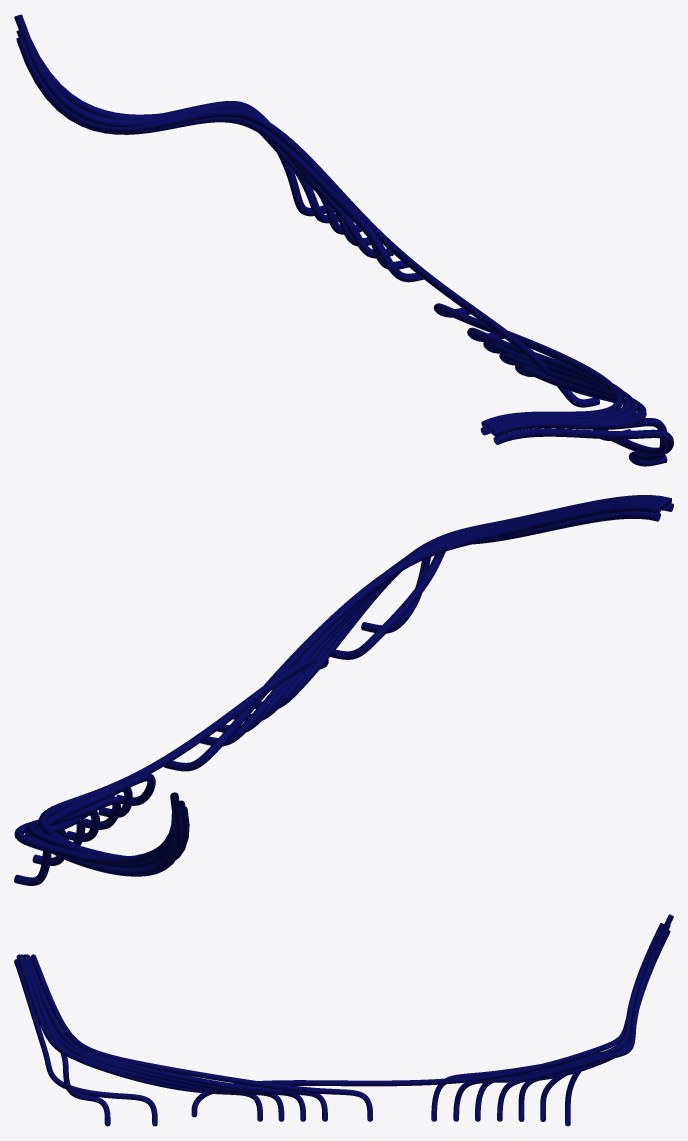
3 views of the same model, one above another, from view 1: azimuth 30°, elevation 25°; view 2: azimuth 150°, elevation 25°; view 3: azimuth 270°, elevation 25° (orthographic). The views are drawn at different scales.
Visible parts, largest first — view 1: NurbsPath_011__1_, NurbsPath_012; view 2: NurbsPath_012, NurbsPath_011__1_; view 3: NurbsPath_012, NurbsPath_011__1_.
Boxes of the visible parts, x1,y1,x2,y2 form: NurbsPath_011__1_: [14, 14, 599, 407]; NurbsPath_012: [433, 303, 673, 466]; NurbsPath_012: [163, 495, 673, 771]; NurbsPath_011__1_: [14, 656, 328, 885]; NurbsPath_012: [14, 954, 372, 1126]; NurbsPath_011__1_: [191, 914, 673, 1126].
Bounding box in the file's own units: 8.44 × 6.76 × 29.86.
